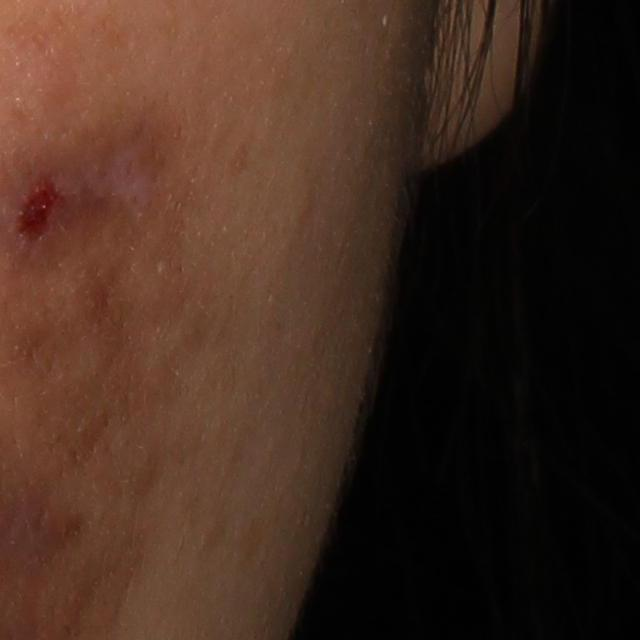other: (7, 180, 61, 244)
